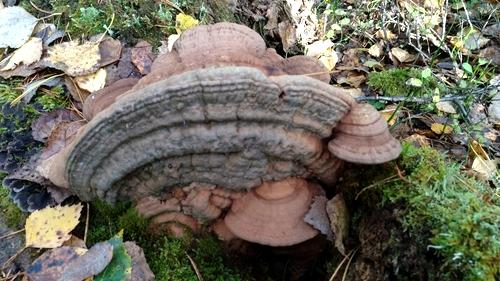Ganoderma - Fruit Body: (37, 23, 402, 247)
